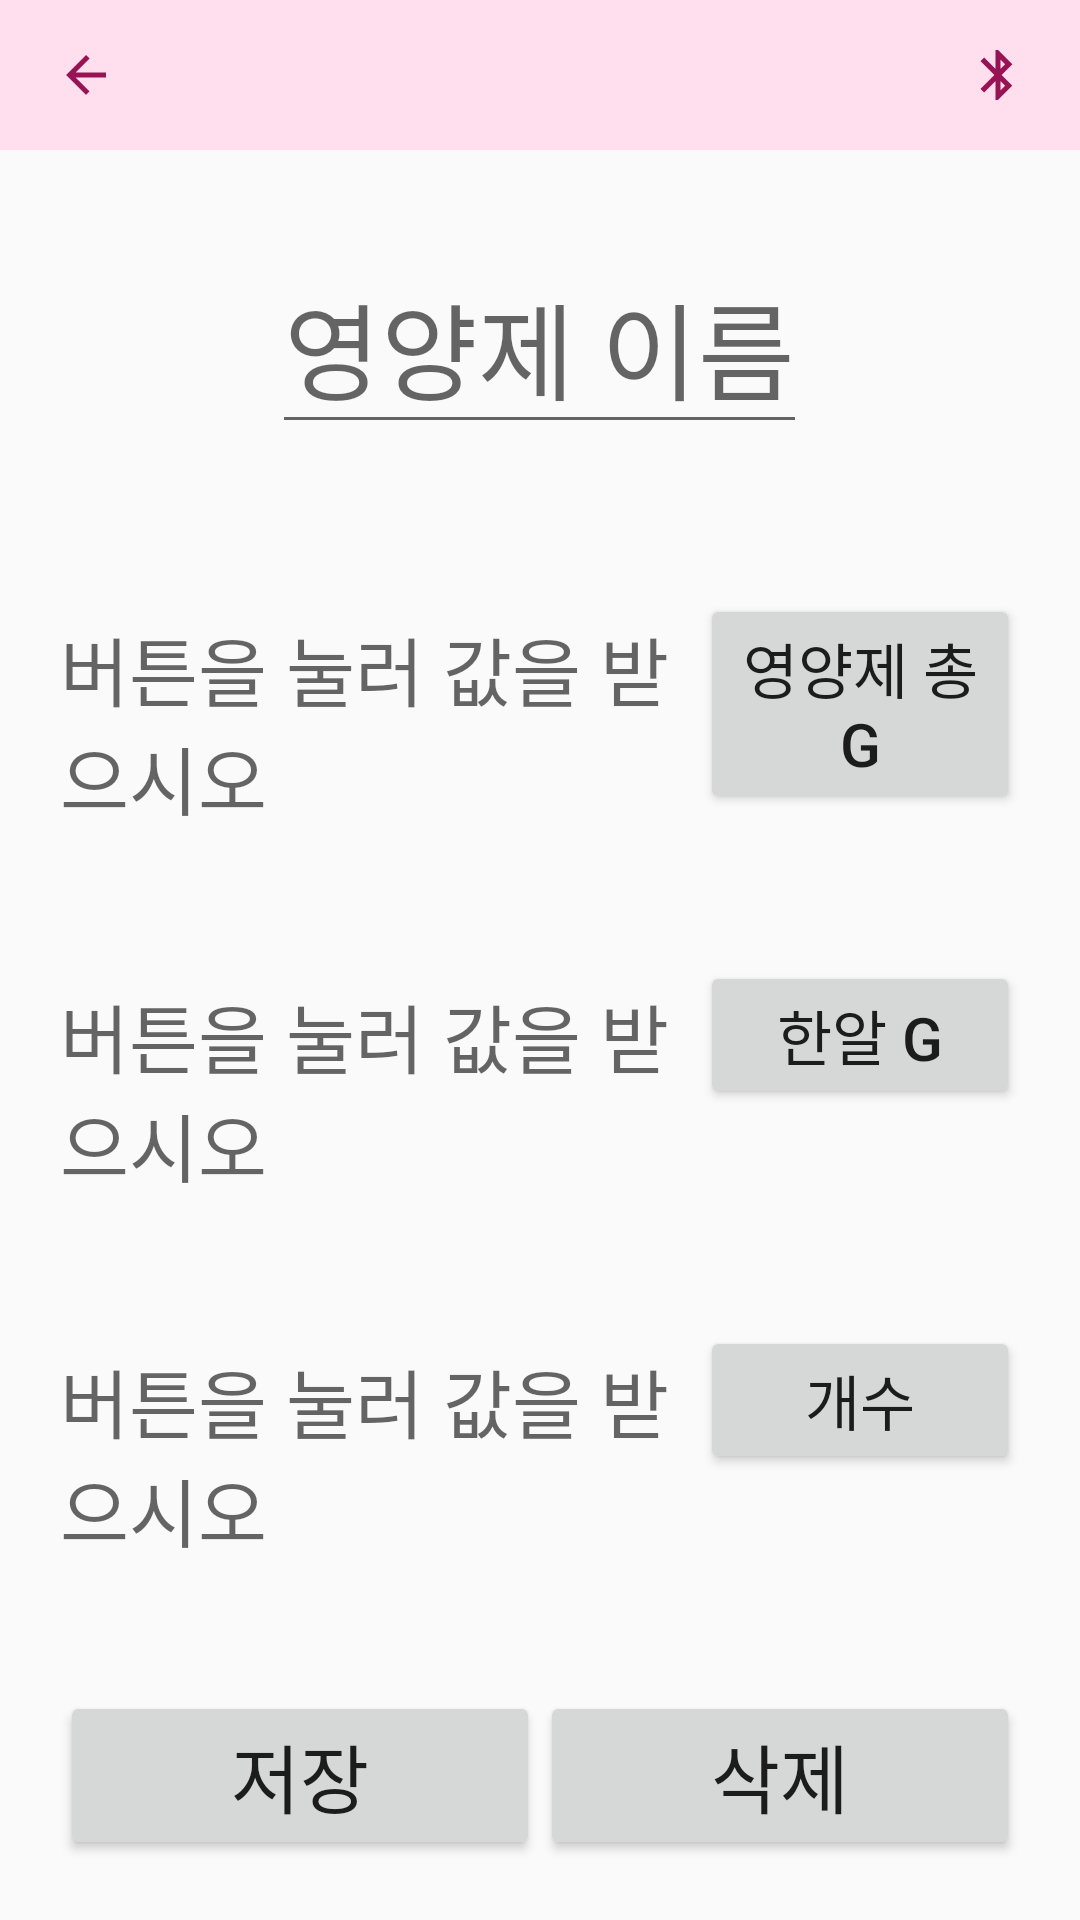

Screen size 1080×1920. Icon name, then its box in pixels as (x1, y1, x2, y2):
backarrow: (66, 55, 106, 95)
